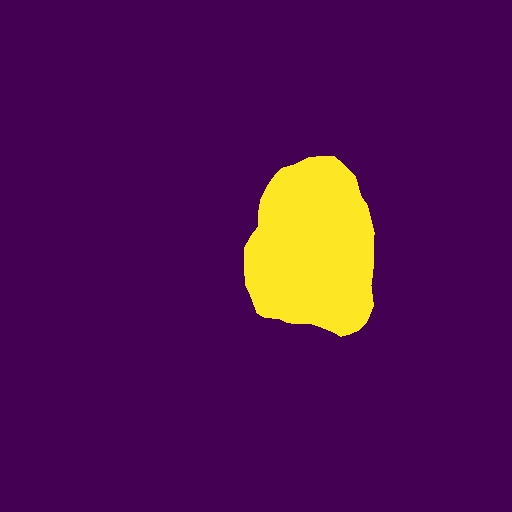Gliomia_tumour: (244, 156, 375, 337)
